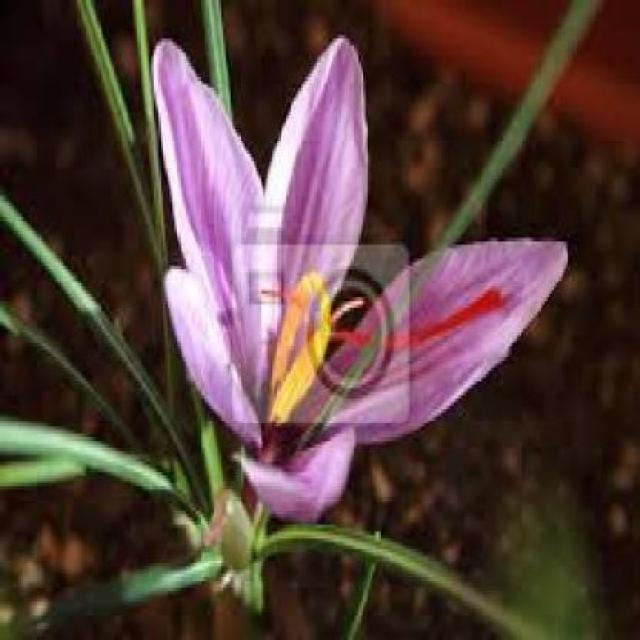saffron open: (154, 38, 568, 519)
